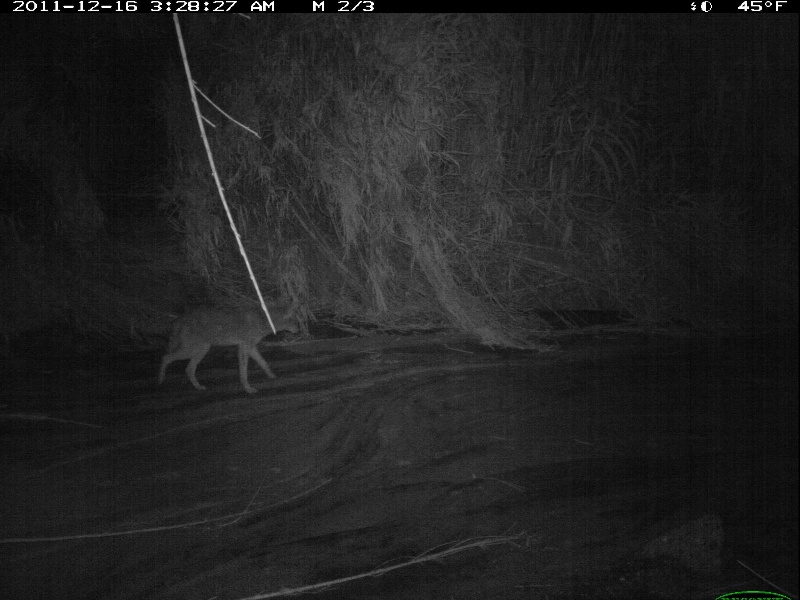coyote: (154, 298, 307, 397)
